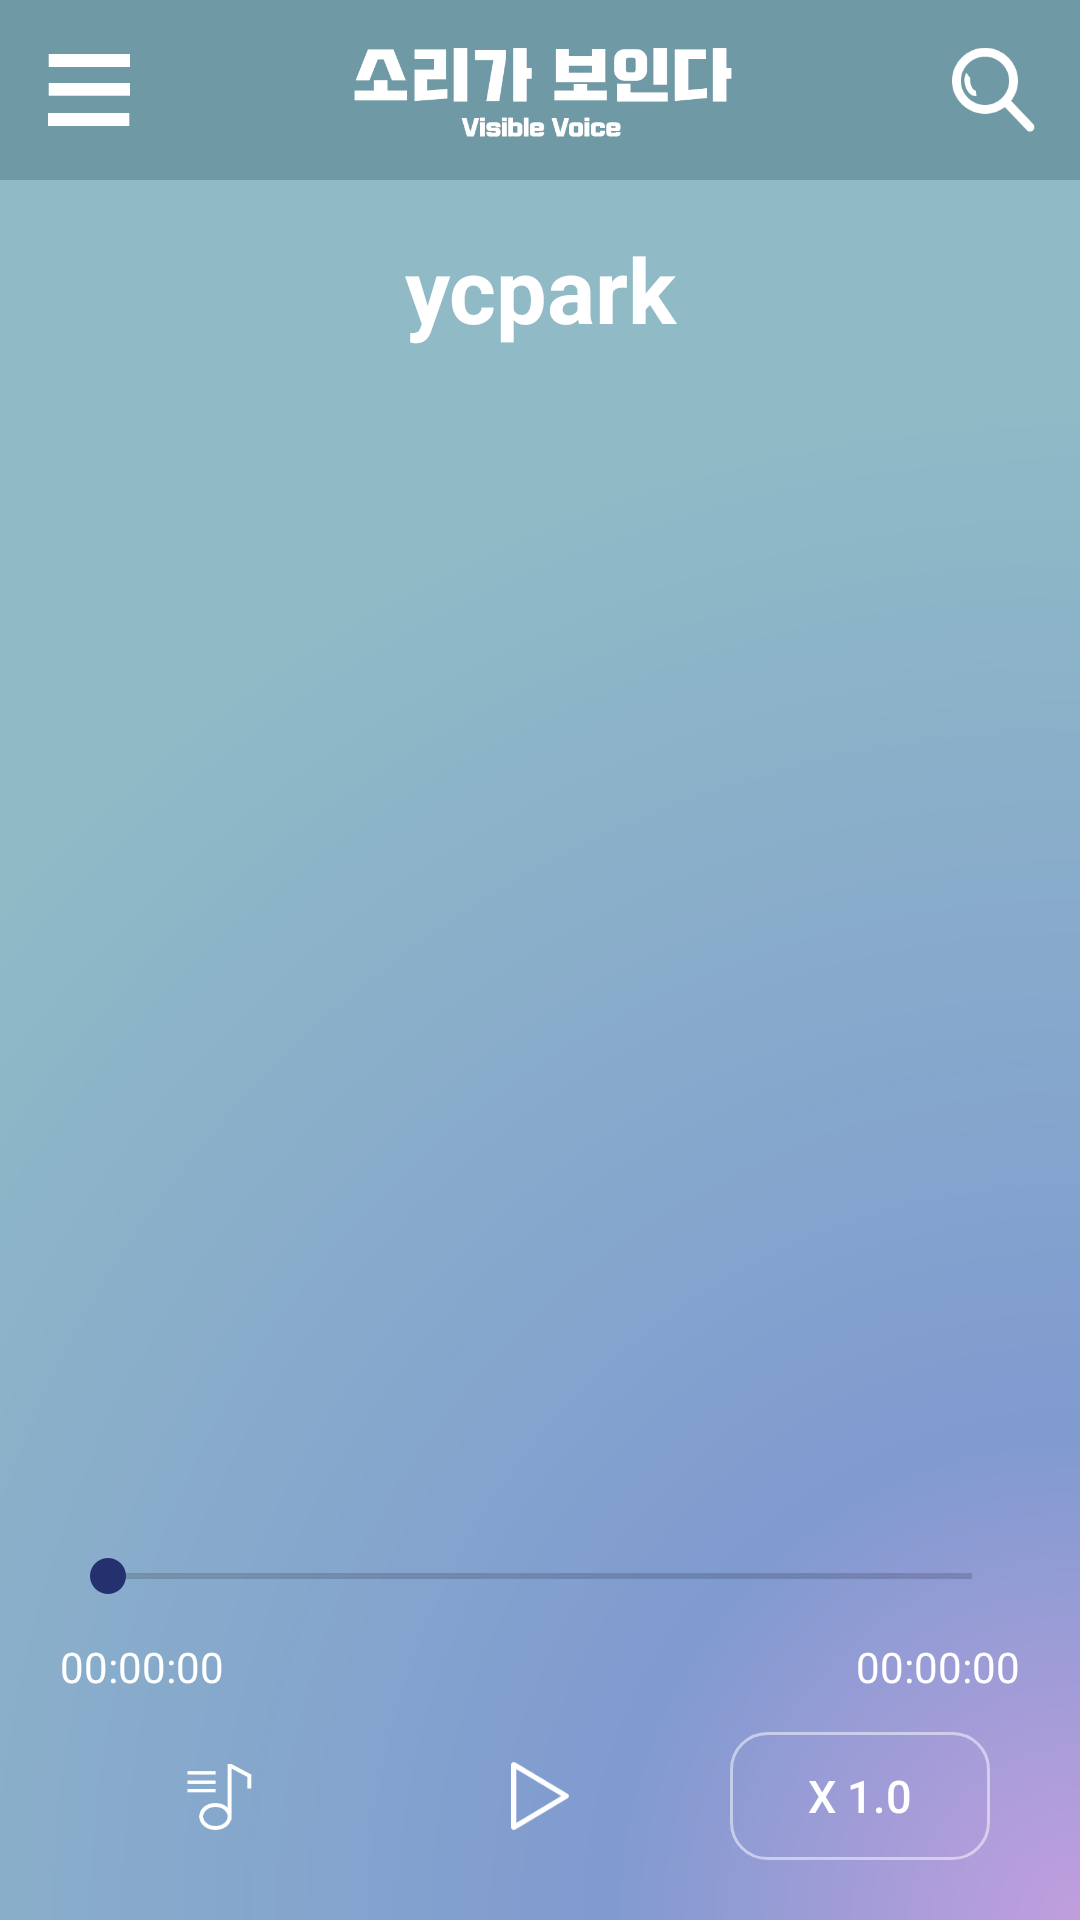

Screen size 1080 x 1920. Icon name, then its box in pixels as bbox(x1, y1, x2, y2):
play: bbox(511, 1762, 569, 1830)
search: bbox(952, 48, 1035, 132)
